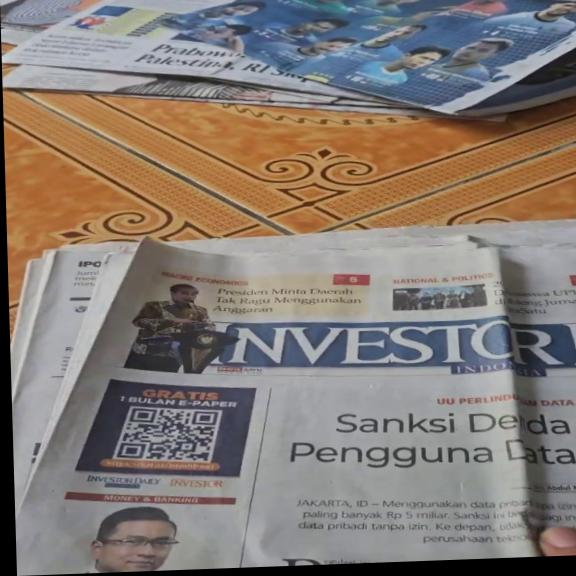Kertas: (13, 218, 576, 572)
